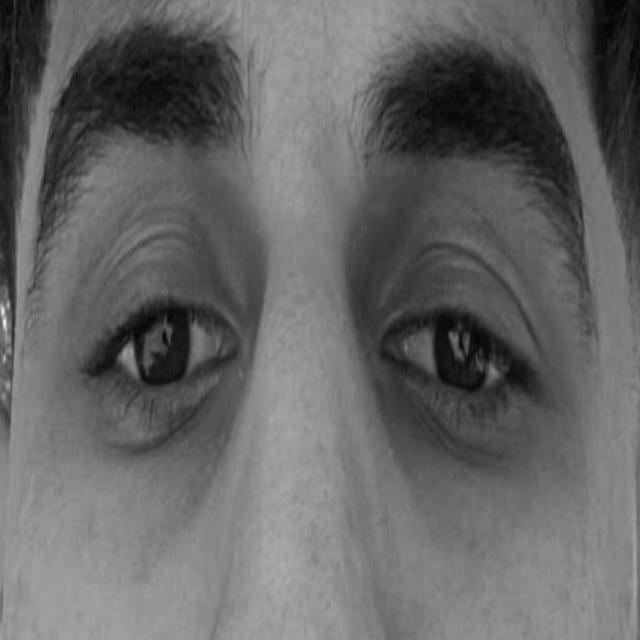real: (46, 121, 600, 552)
